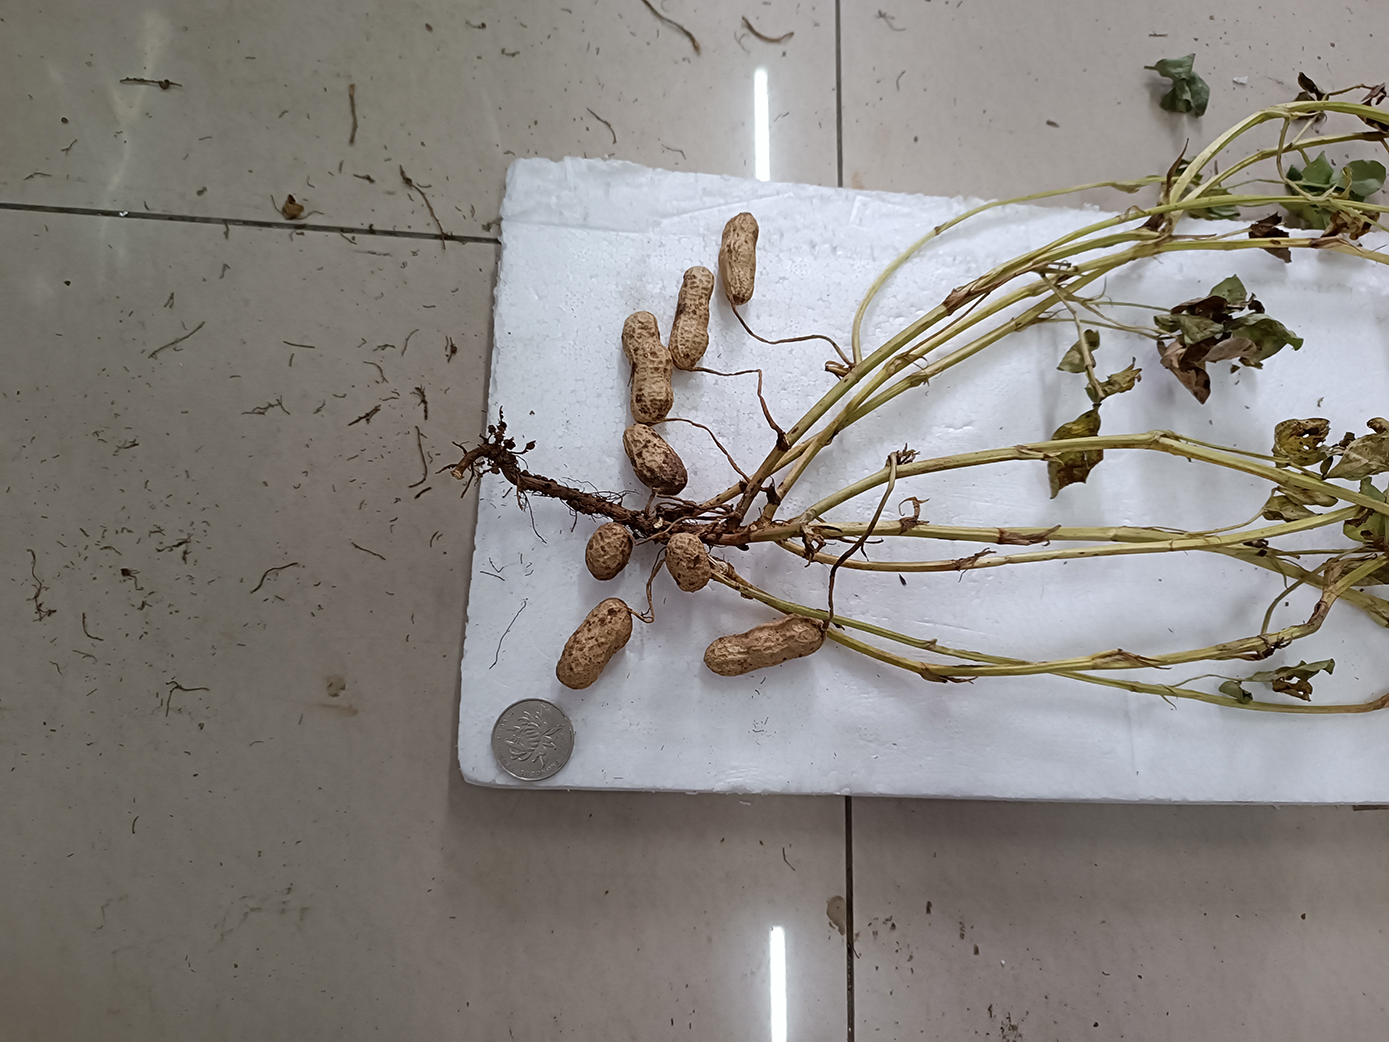h: (704, 616, 827, 674), (557, 599, 632, 688), (621, 310, 675, 426), (621, 424, 688, 497), (669, 266, 715, 372), (718, 213, 760, 304), (664, 532, 715, 594), (582, 523, 632, 580)
